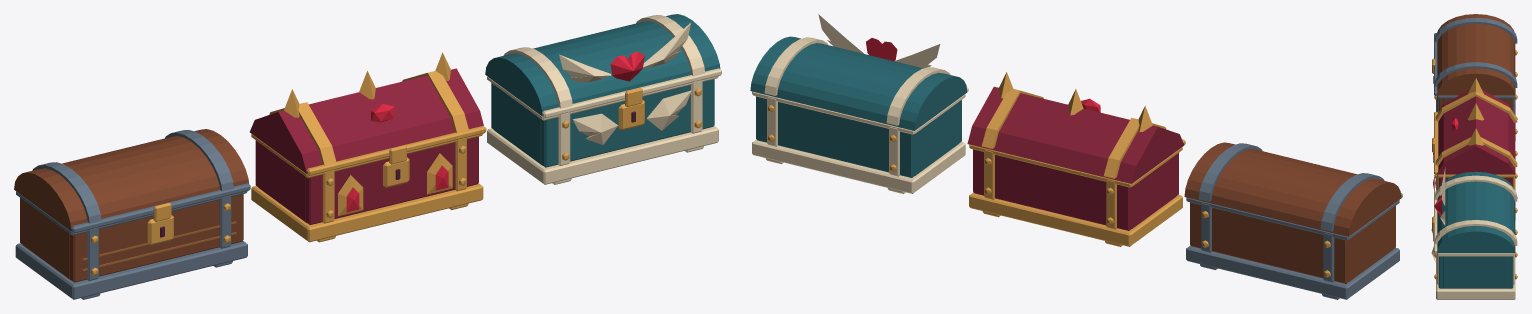
File: schatztruhen.glb
The picture shows the model from 3 angles, left to right: view 1: azimuth 30°, elevation 25°; view 2: azimuth 150°, elevation 25°; view 3: azimuth 270°, elevation 25°; orthographic projection. The views are drawn at different scales.
Parts seen in each view (by area): view 1: Domschrein, Reisetruhe, Herzschrein; view 2: Herzschrein, Domschrein, Reisetruhe; view 3: Herzschrein, Domschrein, Reisetruhe.
Boxes of the visible parts, x1,y1,x2,y2 form: Domschrein: (250, 52, 486, 242); Reisetruhe: (14, 129, 250, 299); Herzschrein: (485, 14, 721, 184); Herzschrein: (750, 14, 968, 193); Domschrein: (967, 72, 1185, 246); Reisetruhe: (1184, 142, 1402, 299); Herzschrein: (1431, 167, 1517, 299); Domschrein: (1432, 78, 1517, 219); Reisetruhe: (1432, 14, 1517, 140).
Size of the model in its own units: 5.1 by 1.02 by 0.853.
